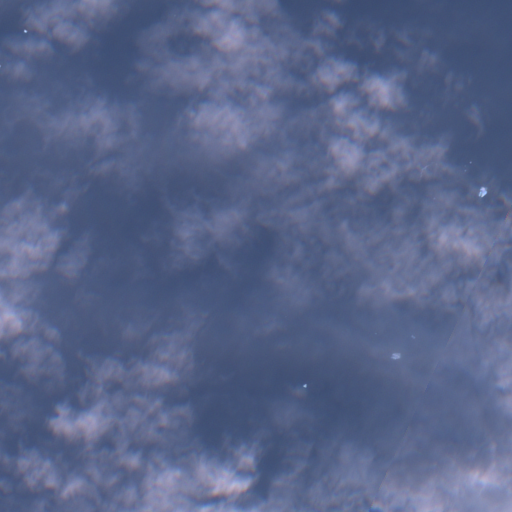Iceberg: (478, 187, 486, 196), (391, 353, 400, 359), (303, 384, 306, 387), (24, 29, 26, 32), (411, 335, 414, 337), (469, 161, 471, 163)
